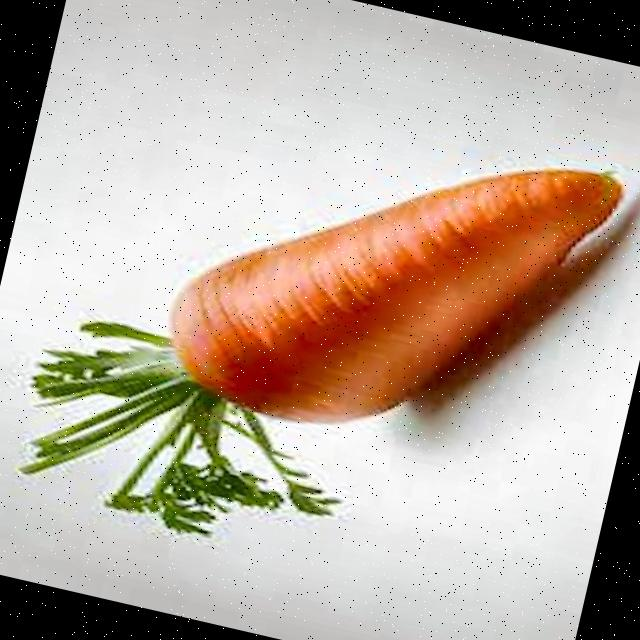carrot: (19, 168, 621, 534)
